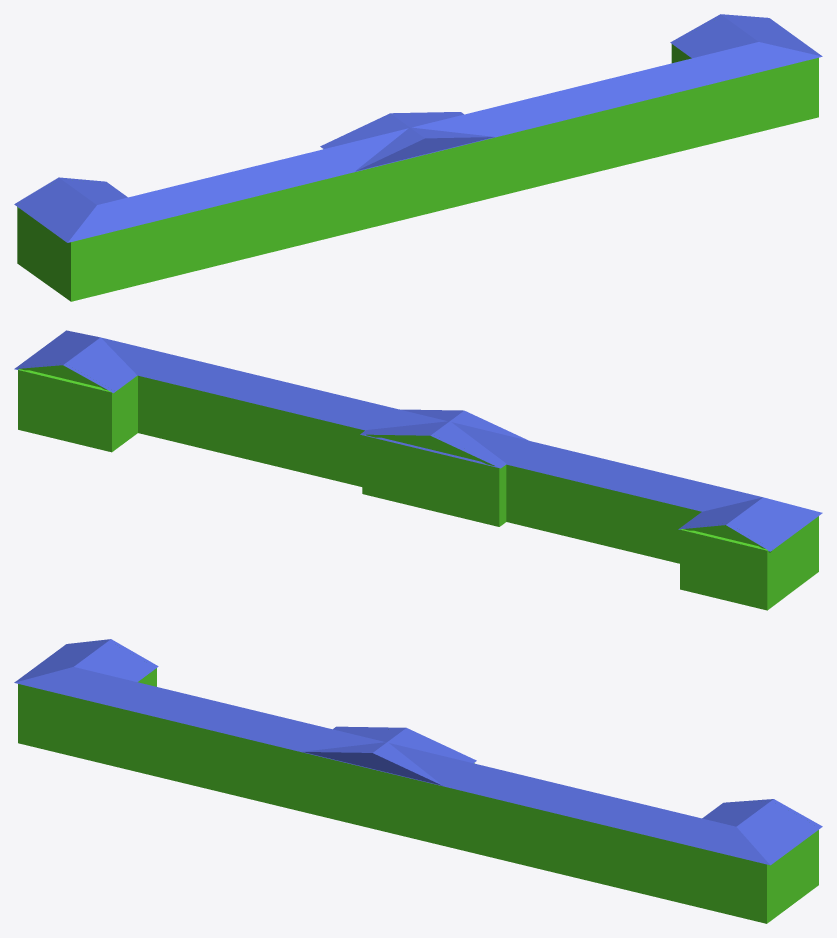
File: arsenal.glb
3 views of the same model, one above another, from view 1: azimuth 30°, elevation 25°; view 2: azimuth 150°, elevation 25°; view 3: azimuth 330°, elevation 25° (orthographic).
Visible parts, largest first — view 1: arsenal.001; view 2: arsenal.001; view 3: arsenal.001.
Part boxes in pixels (left/top/right/bottom): arsenal.001: left=14, top=14, right=822, bottom=301; arsenal.001: left=14, top=330, right=822, bottom=610; arsenal.001: left=14, top=639, right=822, bottom=923.
Bounding box in the file's own units: 737 × 70.66 × 92.84.
